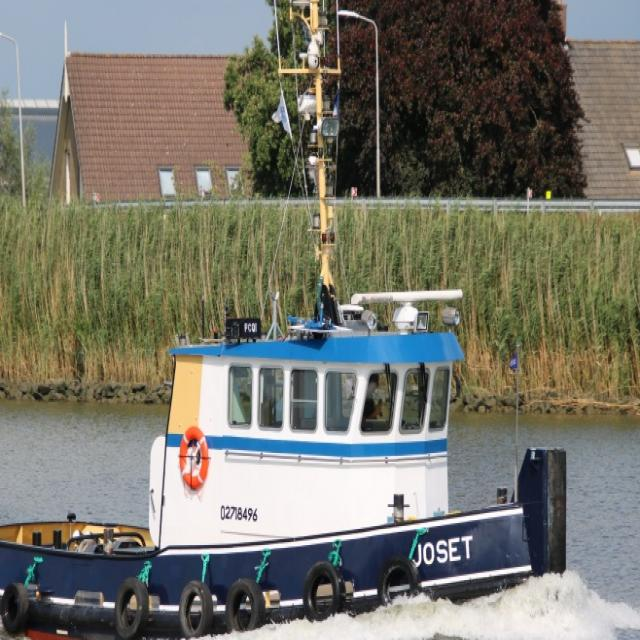tugboat: (1, 1, 573, 640)
